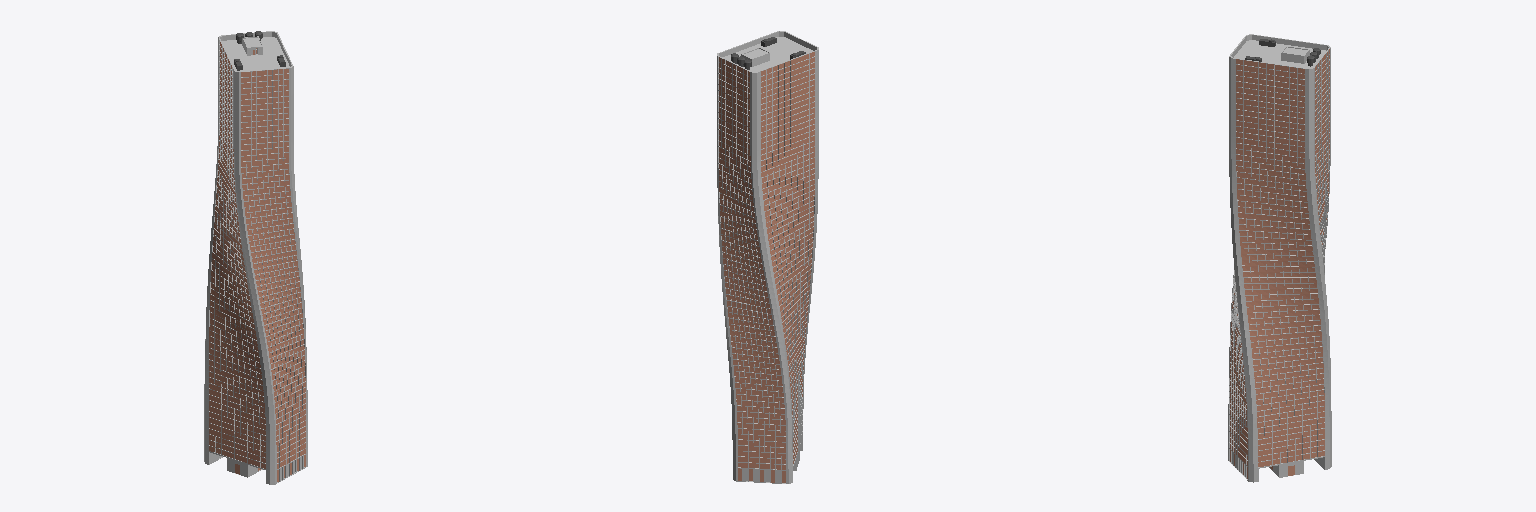
File: building--detailed-3.obj
3 renders of one model, left to right at view 1: azimuth 30°, elevation 25°; view 2: azimuth 150°, elevation 25°; view 3: azimuth 270°, elevation 25°, orthographic.
Parts seen in each view (by area): view 1: Sky_1_; view 2: Sky_1_; view 3: Sky_1_.
Boxes of the visible parts, x1,y1,x2,y2 form: Sky_1_: [204, 31, 307, 484]; Sky_1_: [717, 31, 818, 483]; Sky_1_: [1228, 34, 1331, 482].
Bounding box in the file's own units: 1.16 × 6.08 × 1.37.